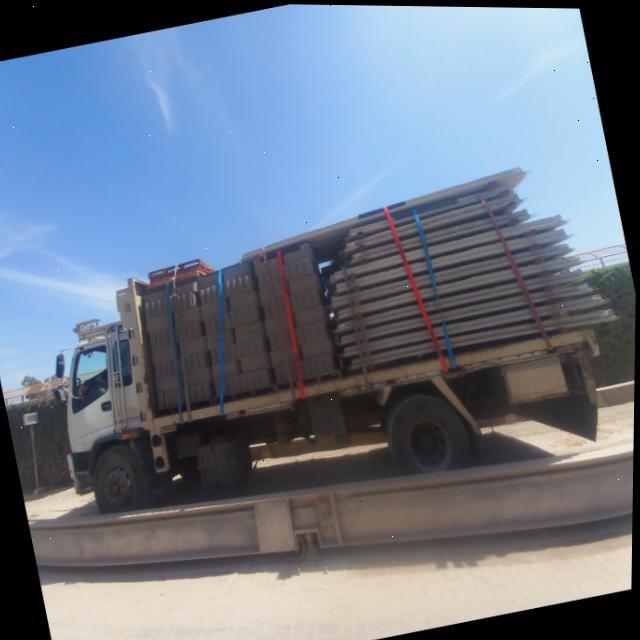bricks: (144, 244, 337, 409)
